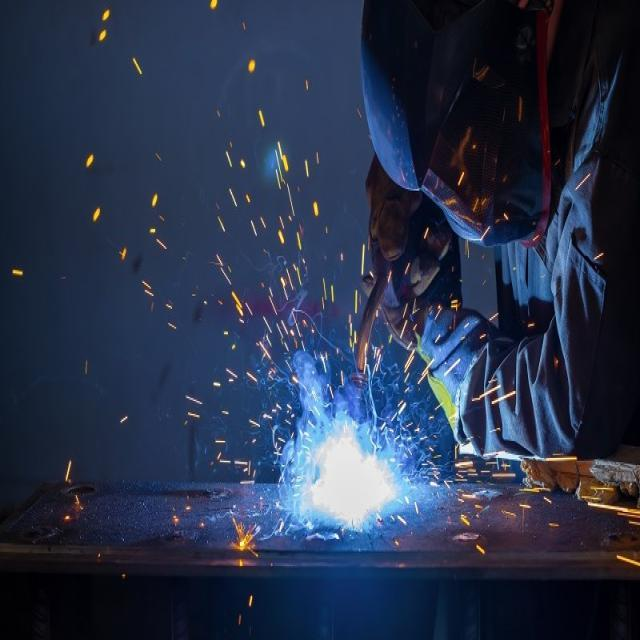with_helmet: (361, 0, 552, 244)
